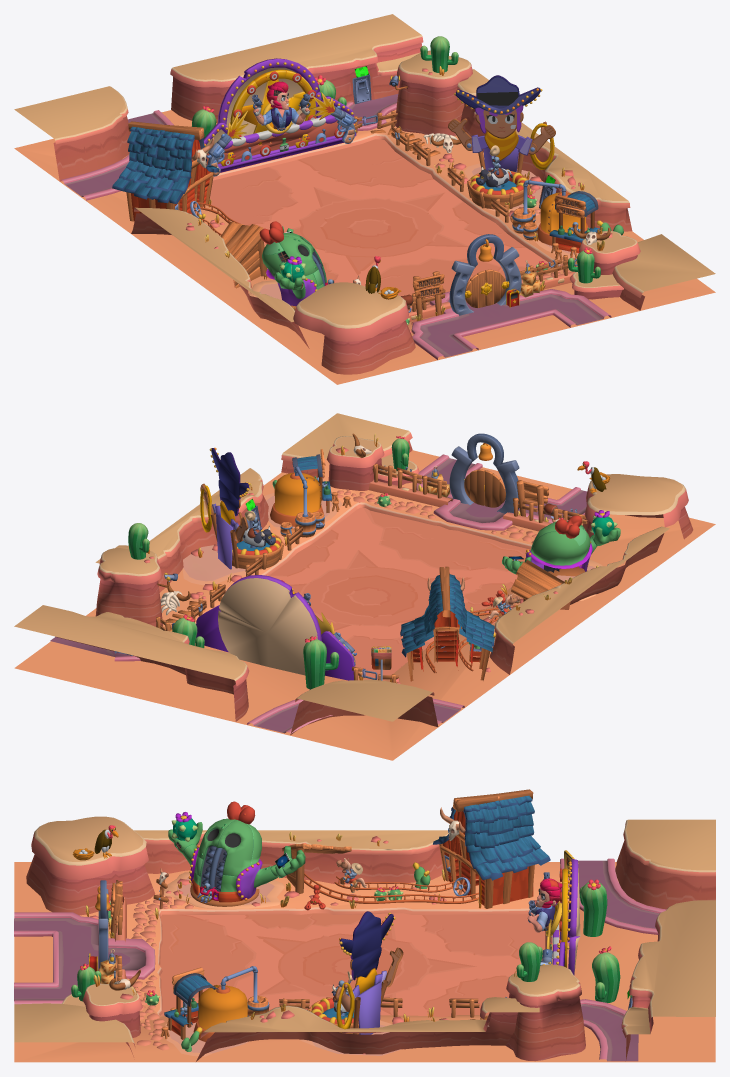
File: bgr_ranger_ranch.fbx
3 views of the same model, one above another, from view 1: azimuth 30°, elevation 25°; view 2: azimuth 150°, elevation 25°; view 3: azimuth 270°, elevation 25° (orthographic). The views are drawn at different scales.
Visible parts, largest first — view 1: bgr_ranger_ranch_Canyons, bgr_ranger_ranch_ground_001, bgr_ranger_ranch_sand_001, bgr_ranger_ranch_House, bgr_ranger_ranch_Track_01, bgr_ranger_ranch_Party_Cactu, bgr_ranger_ranch_Shelly, bgr_ranger_ranch_Main_stage, bgr_ranger_ranch_Gates_002, bgr_ranger_ranch_Boiler, bgr_ranger_ranch_Main_stage_Star, bgr_ranger_ranch_Track_03 (+17 smaller); view 2: bgr_ranger_ranch_Canyons, bgr_ranger_ranch_sand_001, bgr_ranger_ranch_ground_001, bgr_ranger_ranch_Main_stage, bgr_ranger_ranch_House, bgr_ranger_ranch_Party_Cactu, bgr_ranger_ranch_Track_01, bgr_ranger_ranch_Boiler, bgr_ranger_ranch_Gates_002, bgr_ranger_ranch_Main_Gun_back, bgr_ranger_ranch_Track_03, bgr_ranger_ranch_Mound_01 (+16 smaller); view 3: bgr_ranger_ranch_Canyons, bgr_ranger_ranch_sand_001, bgr_ranger_ranch_ground_001, bgr_ranger_ranch_House, bgr_ranger_ranch_Party_Cactu, bgr_ranger_ranch_Track_01, bgr_ranger_ranch_Track_03, bgr_ranger_ranch_Boiler, bgr_ranger_ranch_Track_02, bgr_ranger_ranch_Shelly, bgr_ranger_ranch_stoneroad_001, bgr_ranger_ranch_MoonJuice_001 (+21 smaller).
Boxes of the visible parts, x1=… form: bgr_ranger_ranch_Canyons: x1=14, y1=14, x2=715, y2=374; bgr_ranger_ranch_ground_001: x1=209, y1=139, x2=553, y2=297; bgr_ranger_ranch_sand_001: x1=14, y1=109, x2=715, y2=384; bgr_ranger_ranch_House: x1=112, y1=121, x2=219, y2=221; bgr_ranger_ranch_Track_01: x1=411, y1=289, x2=611, y2=359; bgr_ranger_ranch_Party_Cactu: x1=259, y1=221, x2=327, y2=310; bgr_ranger_ranch_Shelly: x1=455, y1=75, x2=540, y2=138; bgr_ranger_ranch_Main_stage: x1=218, y1=58, x2=321, y2=142; bgr_ranger_ranch_Gates_002: x1=449, y1=234, x2=521, y2=315; bgr_ranger_ranch_Boiler: x1=510, y1=180, x2=588, y2=245; bgr_ranger_ranch_Main_stage_Star: x1=230, y1=69, x2=316, y2=144; bgr_ranger_ranch_Track_03: x1=61, y1=110, x2=173, y2=200; bgr_ranger_ranch_Canyons: x1=14, y1=413, x2=693, y2=735; bgr_ranger_ranch_sand_001: x1=14, y1=450, x2=715, y2=760; bgr_ranger_ranch_ground_001: x1=269, y1=507, x2=530, y2=680; bgr_ranger_ranch_Main_stage: x1=218, y1=575, x2=321, y2=675; bgr_ranger_ranch_House: x1=400, y1=566, x2=494, y2=681; bgr_ranger_ranch_Party_Cactu: x1=502, y1=510, x2=620, y2=576; bgr_ranger_ranch_Track_01: x1=416, y1=454, x2=586, y2=530; bgr_ranger_ranch_Boiler: x1=270, y1=466, x2=324, y2=538; bgr_ranger_ranch_Gates_002: x1=449, y1=433, x2=519, y2=513; bgr_ranger_ranch_Main_Gun_back: x1=196, y1=605, x2=354, y2=680; bgr_ranger_ranch_Track_03: x1=247, y1=698, x2=464, y2=733; bgr_ranger_ranch_Mound_01: x1=182, y1=545, x2=261, y2=585; bgr_ranger_ranch_Canyons: x1=14, y1=816, x2=715, y2=1061; bgr_ranger_ranch_sand_001: x1=14, y1=862, x2=715, y2=1062; bgr_ranger_ranch_ground_001: x1=160, y1=913, x2=545, y2=1017; bgr_ranger_ranch_House: x1=433, y1=789, x2=550, y2=908; bgr_ranger_ranch_Party_Cactu: x1=168, y1=801, x2=305, y2=906; bgr_ranger_ranch_Track_01: x1=14, y1=912, x2=155, y2=1004; bgr_ranger_ranch_Track_03: x1=560, y1=858, x2=666, y2=934; bgr_ranger_ranch_Boiler: x1=193, y1=966, x2=269, y2=1042; bgr_ranger_ranch_Track_02: x1=580, y1=999, x2=638, y2=1061; bgr_ranger_ranch_Shelly: x1=339, y1=911, x2=393, y2=980; bgr_ranger_ranch_stoneroad_001: x1=131, y1=894, x2=193, y2=1050; bgr_ranger_ranch_MoonJuice_001: x1=161, y1=973, x2=218, y2=1039.
Size of what is drawn, in the model's own units: 4106 by 1228 by 6063.
8 materials, 8 textured.
